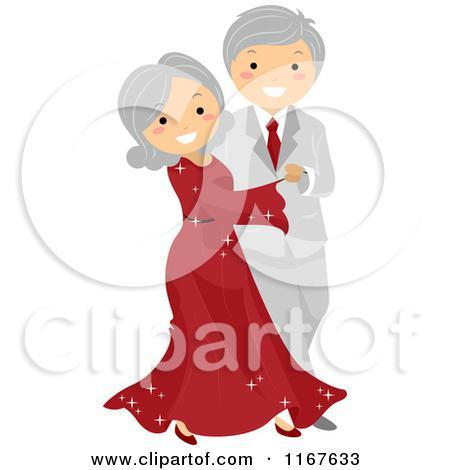person: (97, 50, 311, 443), (217, 12, 332, 381)
